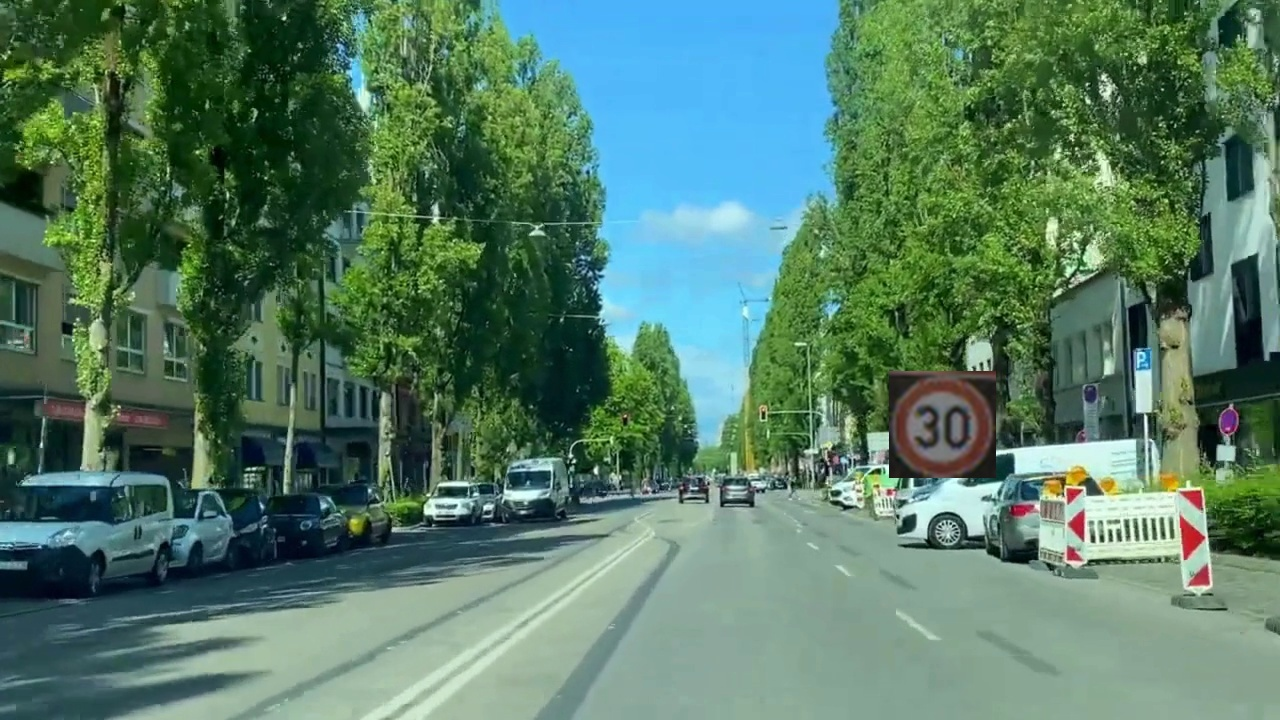Speed 30: (889, 371, 996, 478)
